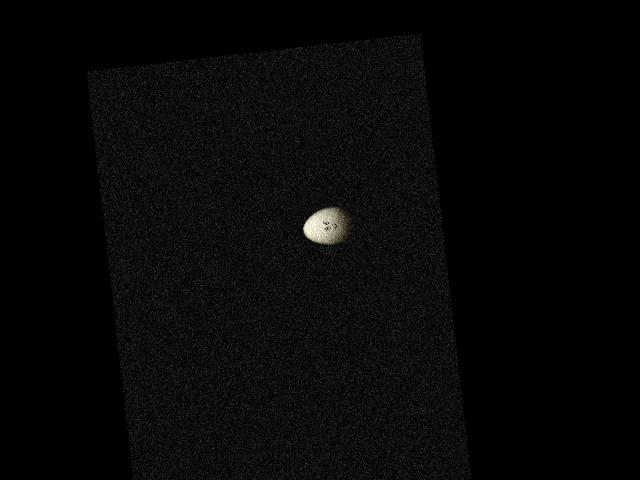egg: (301, 204, 353, 247)
